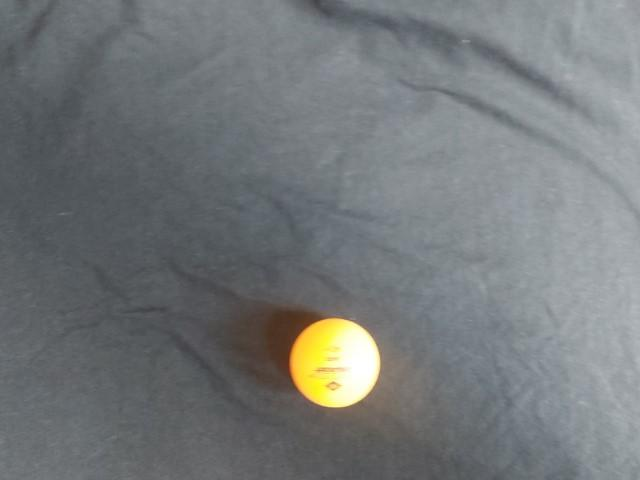oball: (252, 70, 356, 167)
